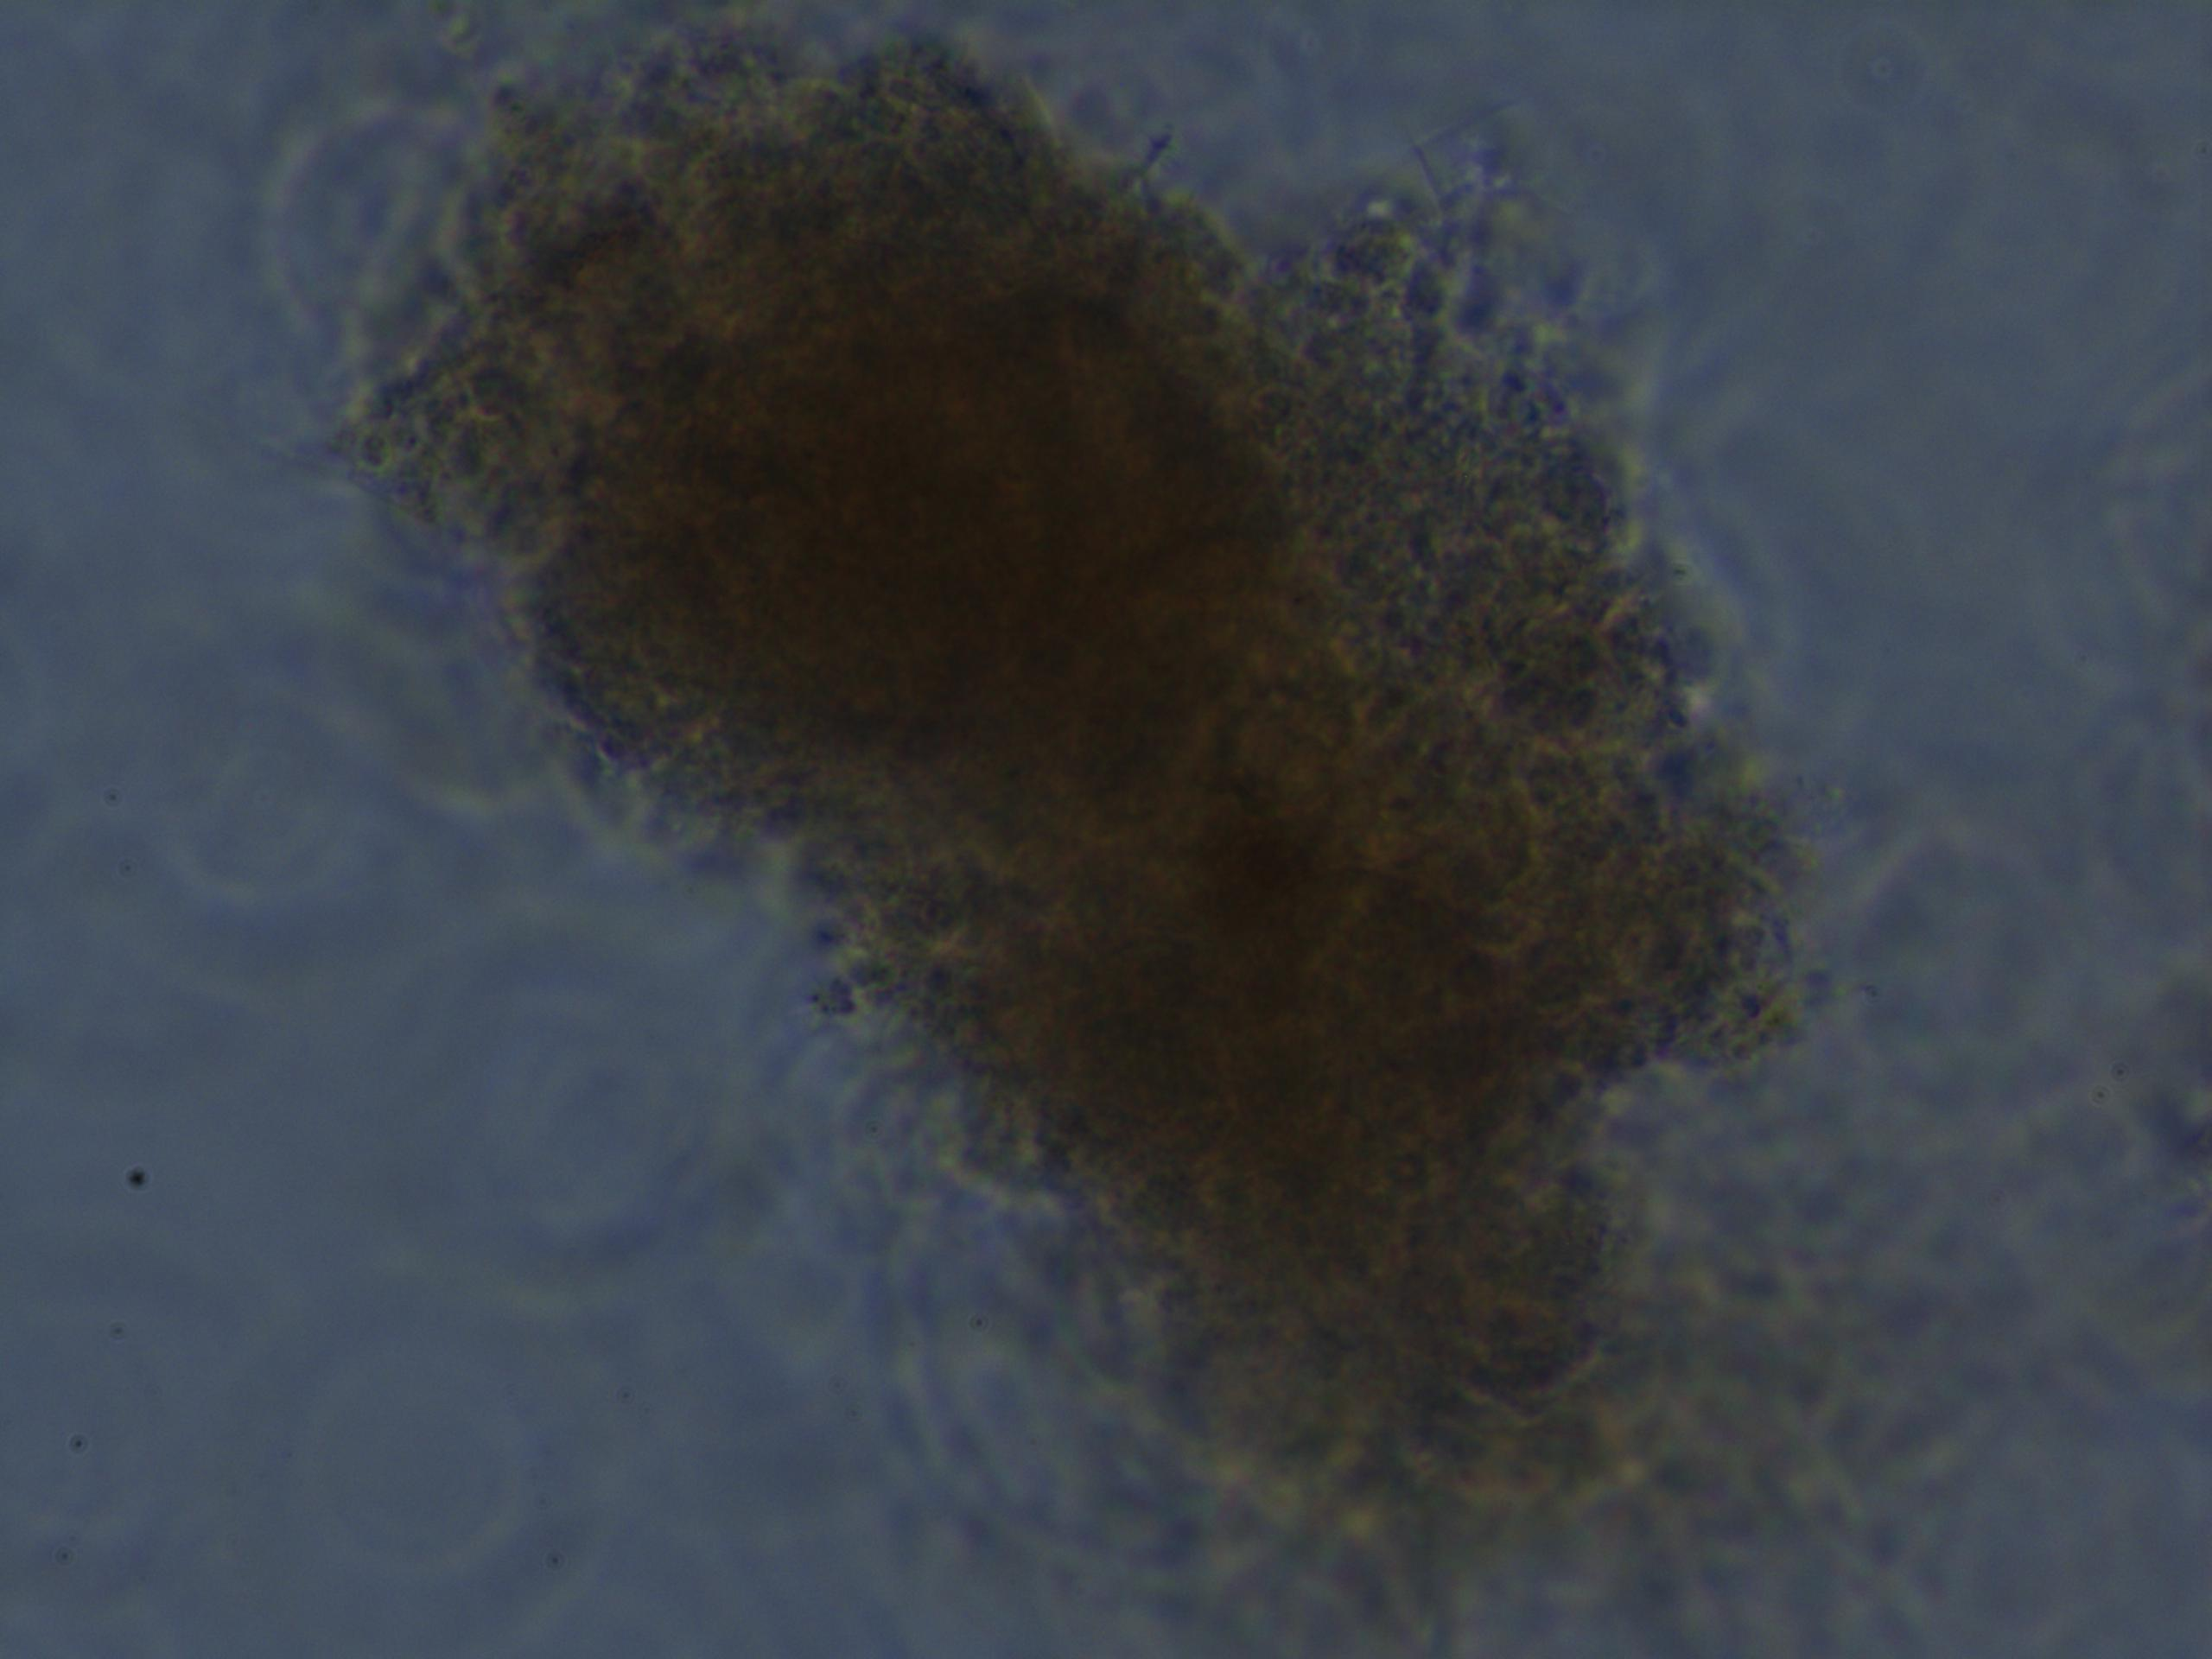spherical_floc: (334, 16, 1834, 1518)
